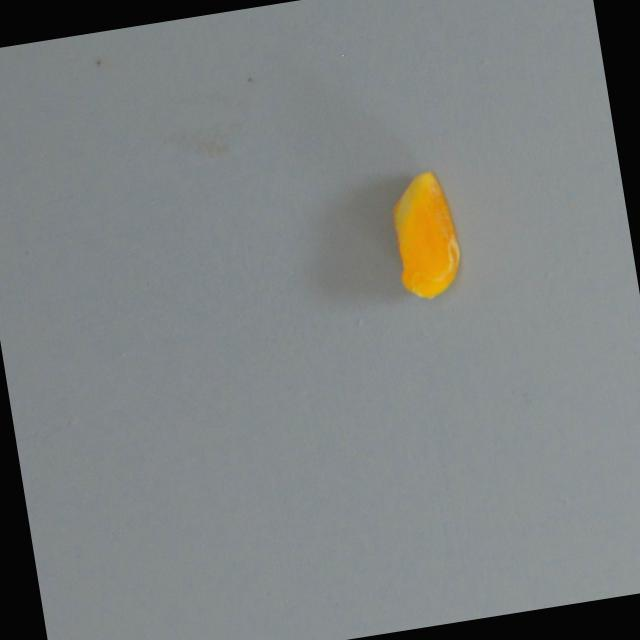pelicula: (365, 145, 492, 318)
